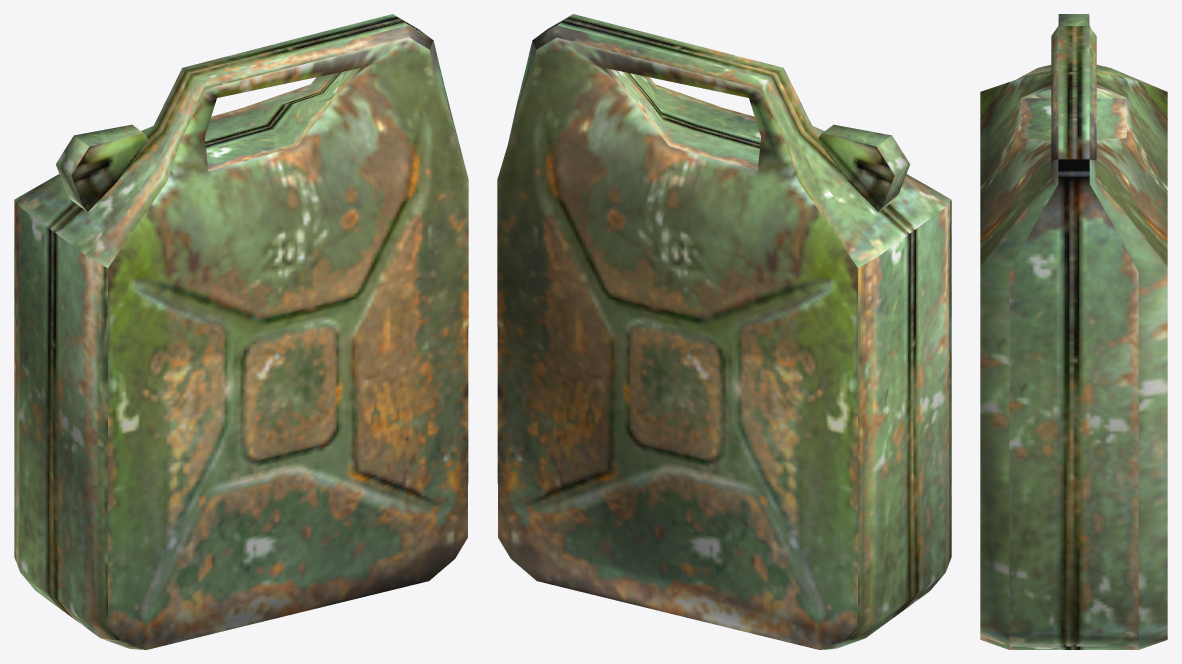
The model's file is can_01.fbx.
3 views of the same model, side by side, from view 1: azimuth 30°, elevation 25°; view 2: azimuth 150°, elevation 25°; view 3: azimuth 270°, elevation 25° (orthographic).
Visible parts, largest first — view 1: can_01; view 2: can_01; view 3: can_01.
Boxes of the visible parts, x1,y1,x2,y2 form: can_01: (14,14,468,649); can_01: (497,14,951,649); can_01: (980,14,1167,649).
Bounding box in the file's own units: 0.4177 × 0.5608 × 0.1791.
